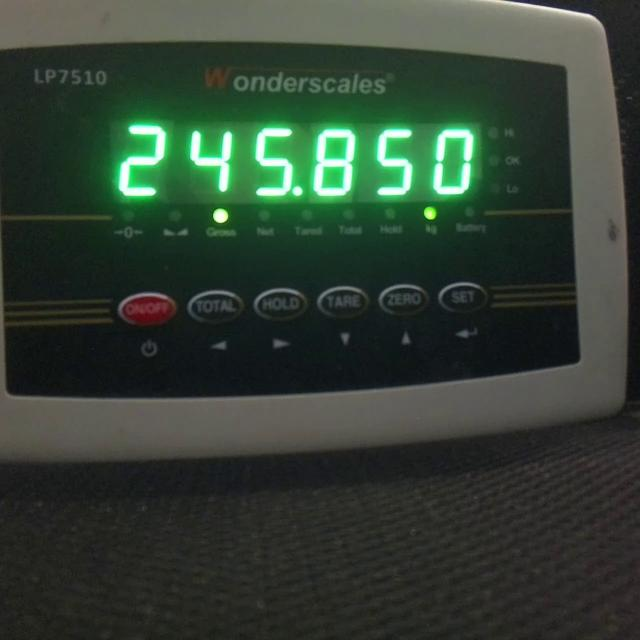.: (292, 186, 302, 196)
0: (433, 128, 473, 195)
2: (117, 125, 165, 197)
4: (190, 129, 232, 194)
5: (254, 125, 295, 200), (374, 127, 414, 196)
8: (312, 128, 355, 196)
